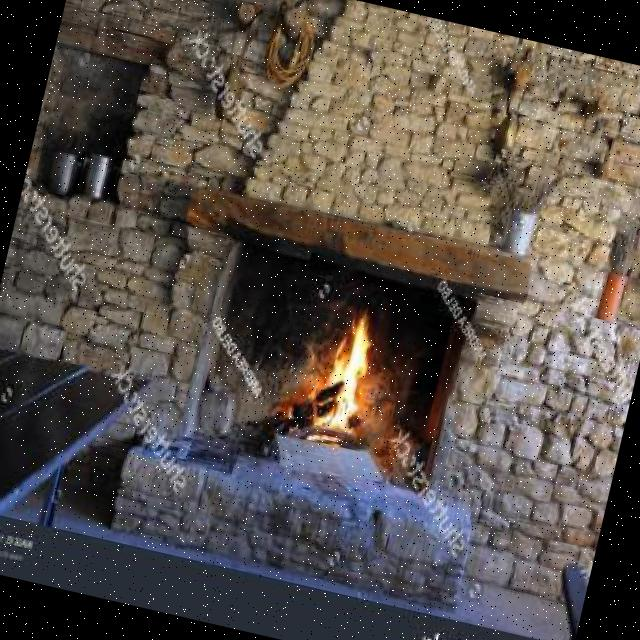fire: (296, 301, 391, 452)
